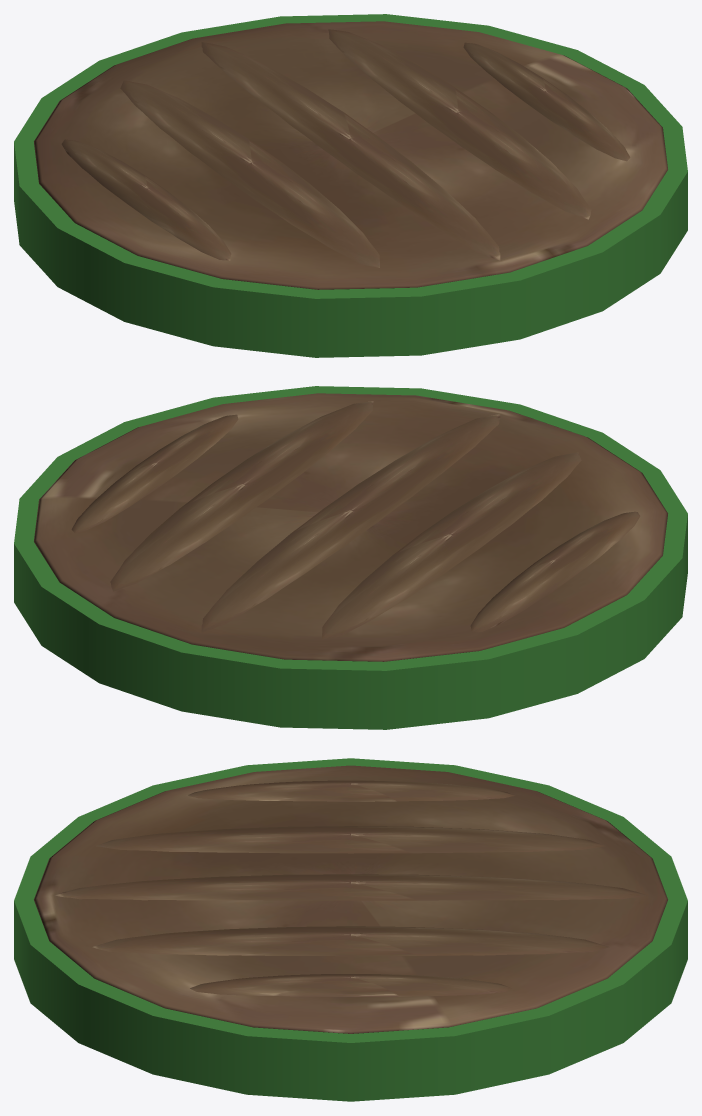
Rendered from tempPlotRed.fbx.
3 views of the same model, one above another, from view 1: azimuth 30°, elevation 25°; view 2: azimuth 150°, elevation 25°; view 3: azimuth 270°, elevation 25° (orthographic).
Parts seen in each view (by area): view 1: pSphere7, pCylinder1; view 2: pSphere7, pCylinder1; view 3: pSphere7, pCylinder1.
Part boxes in pixels (bbox=[...]): pSphere7: bbox=[34, 21, 667, 289]; pCylinder1: bbox=[14, 14, 687, 357]; pSphere7: bbox=[34, 393, 667, 661]; pCylinder1: bbox=[14, 386, 687, 729]; pSphere7: bbox=[34, 765, 667, 1033]; pCylinder1: bbox=[14, 758, 687, 1101].
Bounding box in the file's own units: 2 × 0.2506 × 2.
